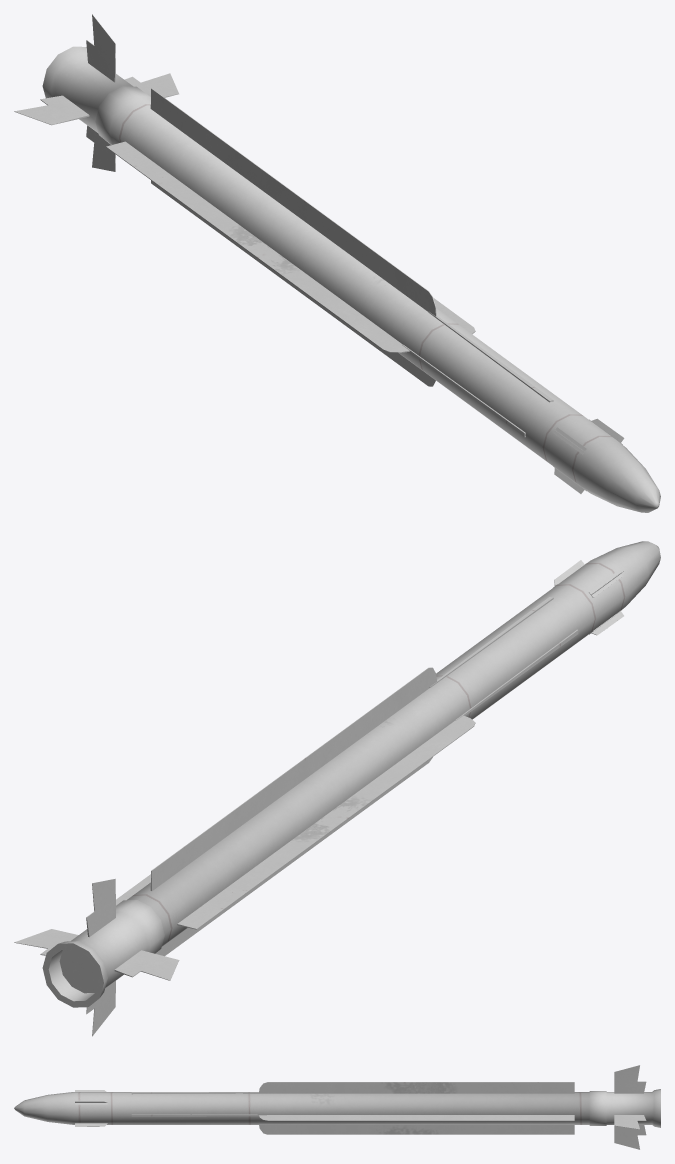
The model's file is VL MICA.fbx.
The picture shows the model from 3 angles, top to bottom: view 1: azimuth 30°, elevation 25°; view 2: azimuth 150°, elevation 25°; view 3: azimuth 270°, elevation 25°; orthographic projection. The views are drawn at different scales.
Visible parts, largest first — view 1: SAM VL MICA; view 2: SAM VL MICA; view 3: SAM VL MICA.
Part boxes in pixels (bbox=[...]): SAM VL MICA: bbox=[14, 14, 660, 512]; SAM VL MICA: bbox=[14, 541, 660, 1036]; SAM VL MICA: bbox=[14, 1065, 660, 1149].
Size of the model in its own units: 0.4795 by 3.11 by 0.4496.
Materials: 1 (1 with a texture image).
